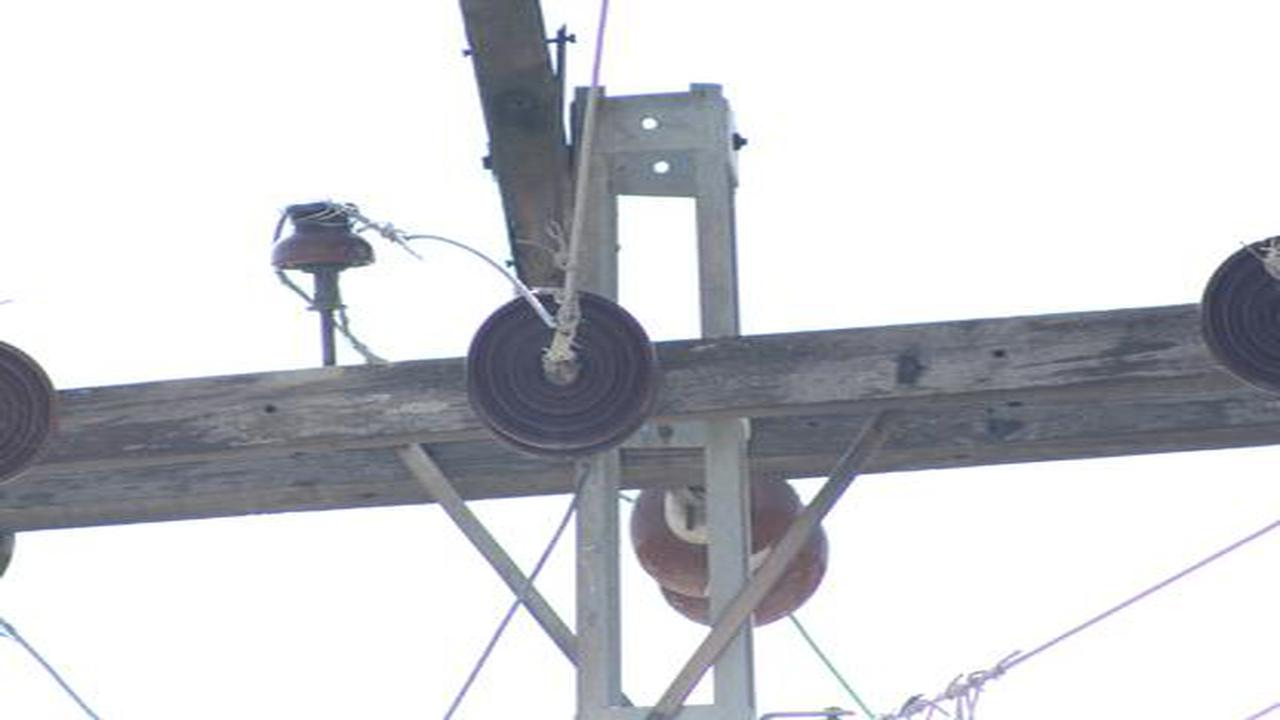insulator_disc: (457, 285, 659, 464), (626, 486, 844, 613)
insulator_pin: (267, 198, 377, 275)
